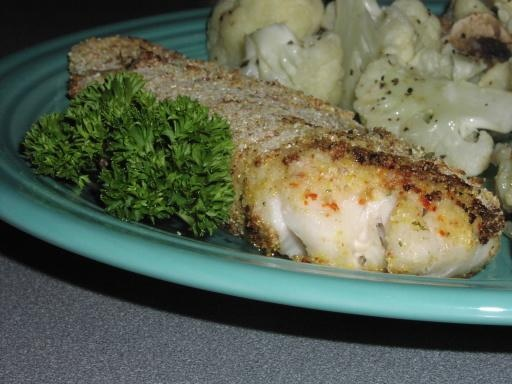background: (14, 0, 409, 167)
